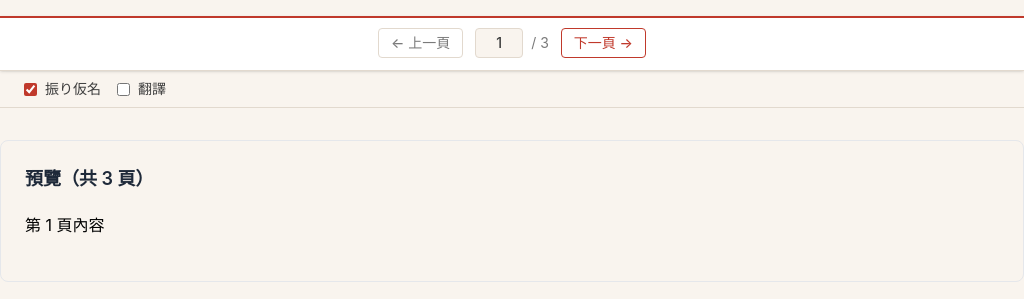
Test: PagedPreview › 點「下一頁」後顯示第 2 頁
The width and height of the screenshot is (1024, 299).
Click the button "下一頁 →" at (603, 43), box [561,28,646,58]
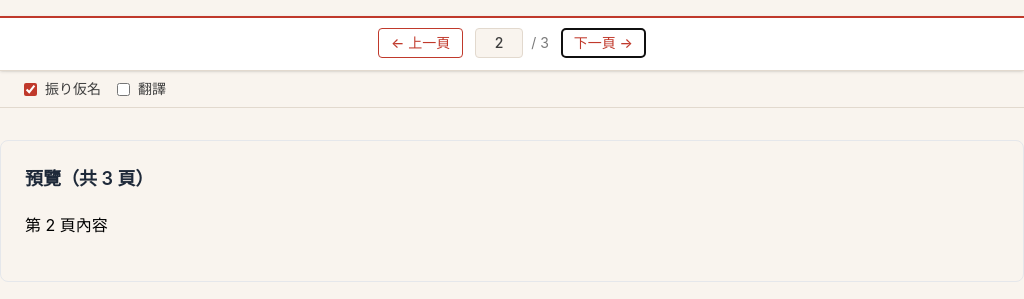
expect the text "第 2 頁內容" is shown: met, box [25,215,108,235]
expect the text "第 1 頁內容" is gone: met
